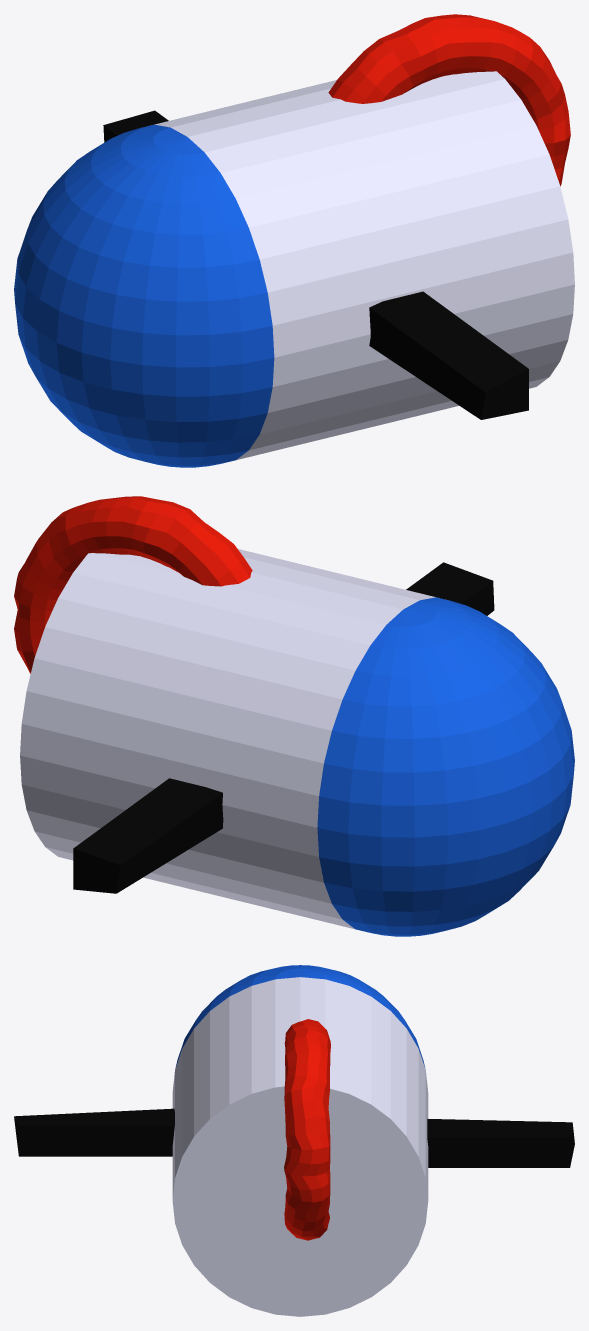
The model's file is escape_pod1.gltf.
The picture shows the model from 3 angles, top to bottom: view 1: azimuth 30°, elevation 25°; view 2: azimuth 150°, elevation 25°; view 3: azimuth 270°, elevation 25°; orthographic projection. The views are drawn at different scales.
Parts seen in each view (by area): view 1: Cube.001; view 2: Cube.001; view 3: Cube.001.
Boxes of the visible parts, <box> form: Cube.001: <box>14,14,574,467</box>; Cube.001: <box>14,496,574,936</box>; Cube.001: <box>14,965,574,1316</box>.
Size of the model in its own units: 3.55 by 2.33 by 4.39.
